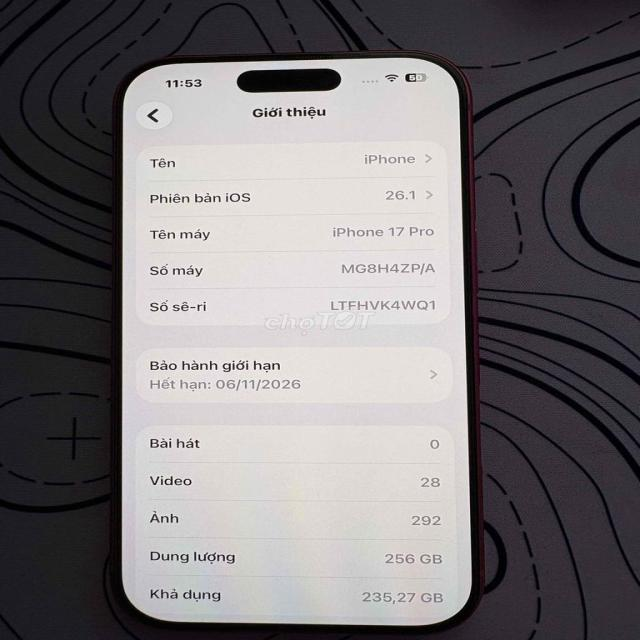gen_17: (105, 48, 484, 627)
